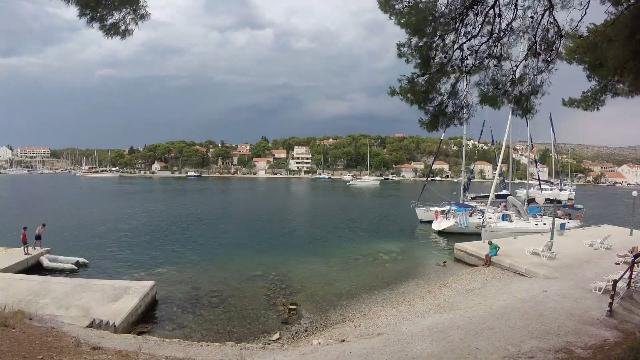Sailboat: (346, 174, 384, 188)
